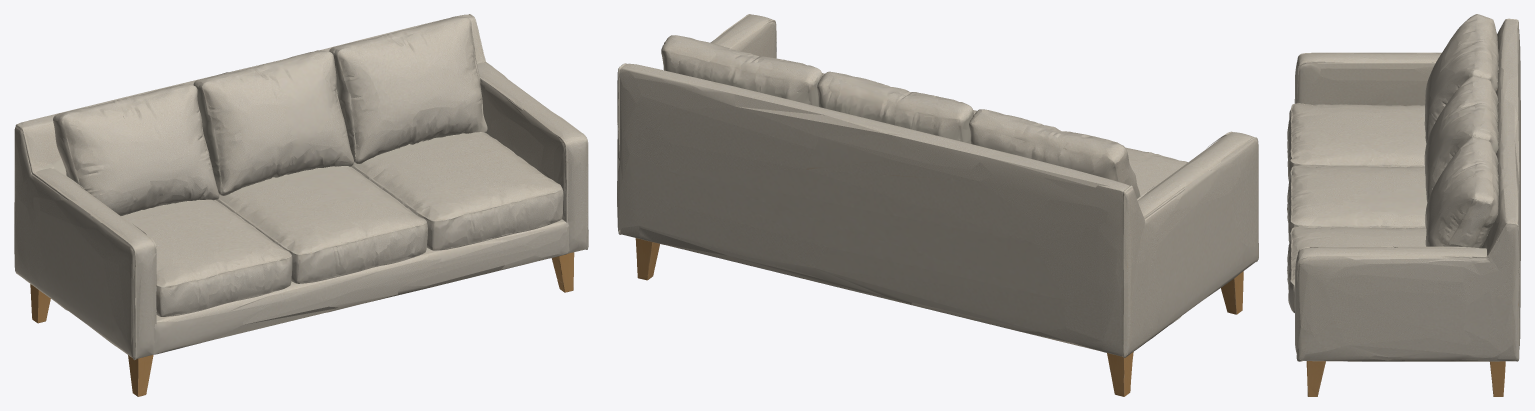
3 renders of one model, left to right at view 1: azimuth 30°, elevation 25°; view 2: azimuth 150°, elevation 25°; view 3: azimuth 270°, elevation 25°, orthographic. The views are drawn at different scales.
Bounding box in the file's own units: 1.9 × 0.8359 × 0.9061.
Materials: 1 (1 with a texture image).
